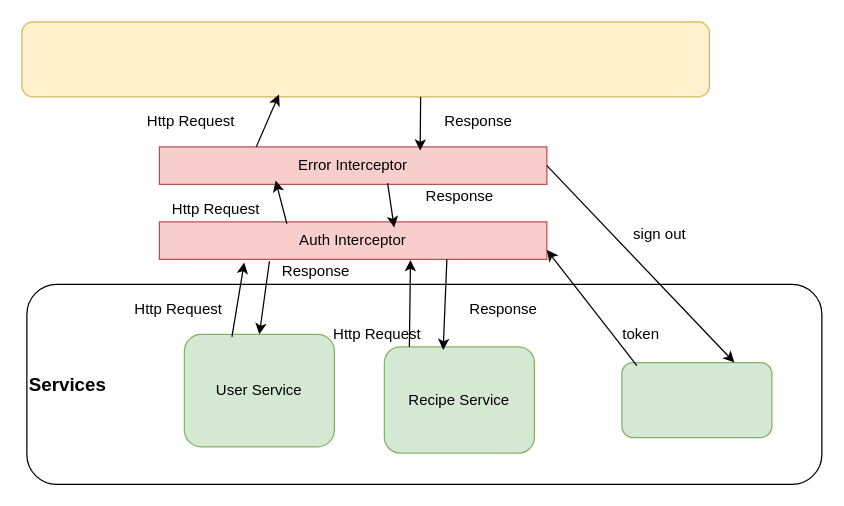
This 844x506 diagram has some shape labels left out. Here are the shapes that lost their labels. From the top down, the centre of each, then its label:
At [365,59]: "Server".
At [696,399]: "Token-storage Service".
